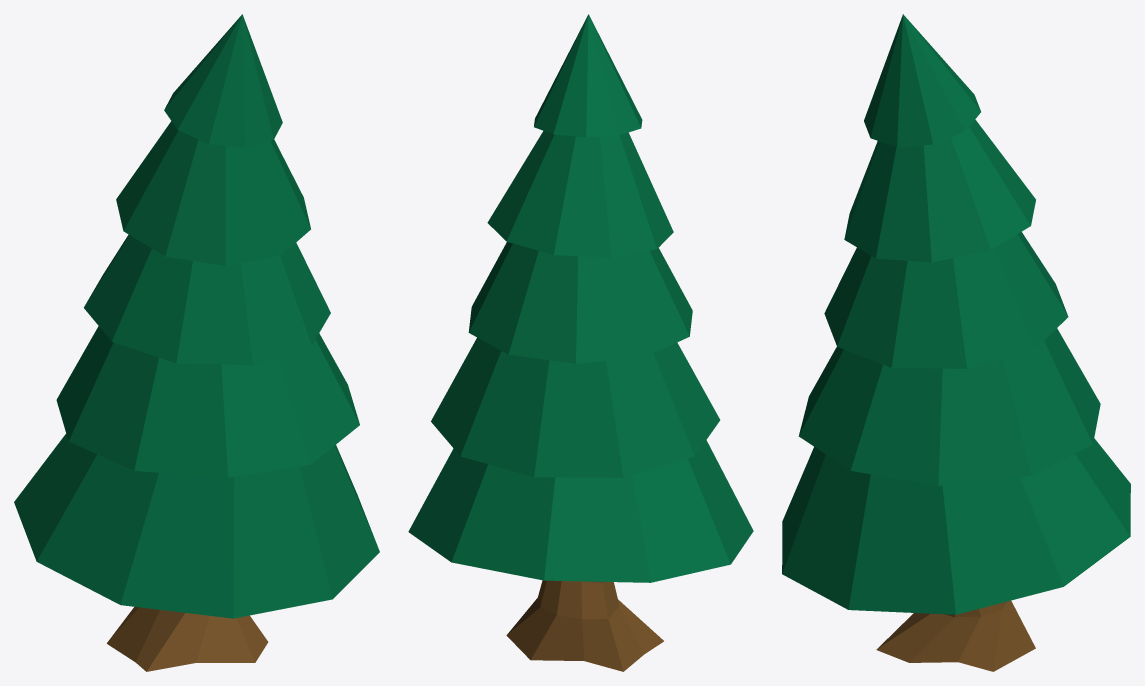
Rendered from Tree.fbx.
3 renders of one model, left to right at view 1: azimuth 30°, elevation 25°; view 2: azimuth 150°, elevation 25°; view 3: azimuth 270°, elevation 25°, orthographic. The views are drawn at different scales.
Visible parts, largest first — view 1: Tree; view 2: Tree; view 3: Tree.
Boxes of the visible parts, x1=… form: Tree: x1=14, y1=14, x2=379, y2=671; Tree: x1=408, y1=14, x2=753, y2=671; Tree: x1=782, y1=14, x2=1130, y2=671.
Bounding box in the file's own units: 1708 × 3289 × 1617.
